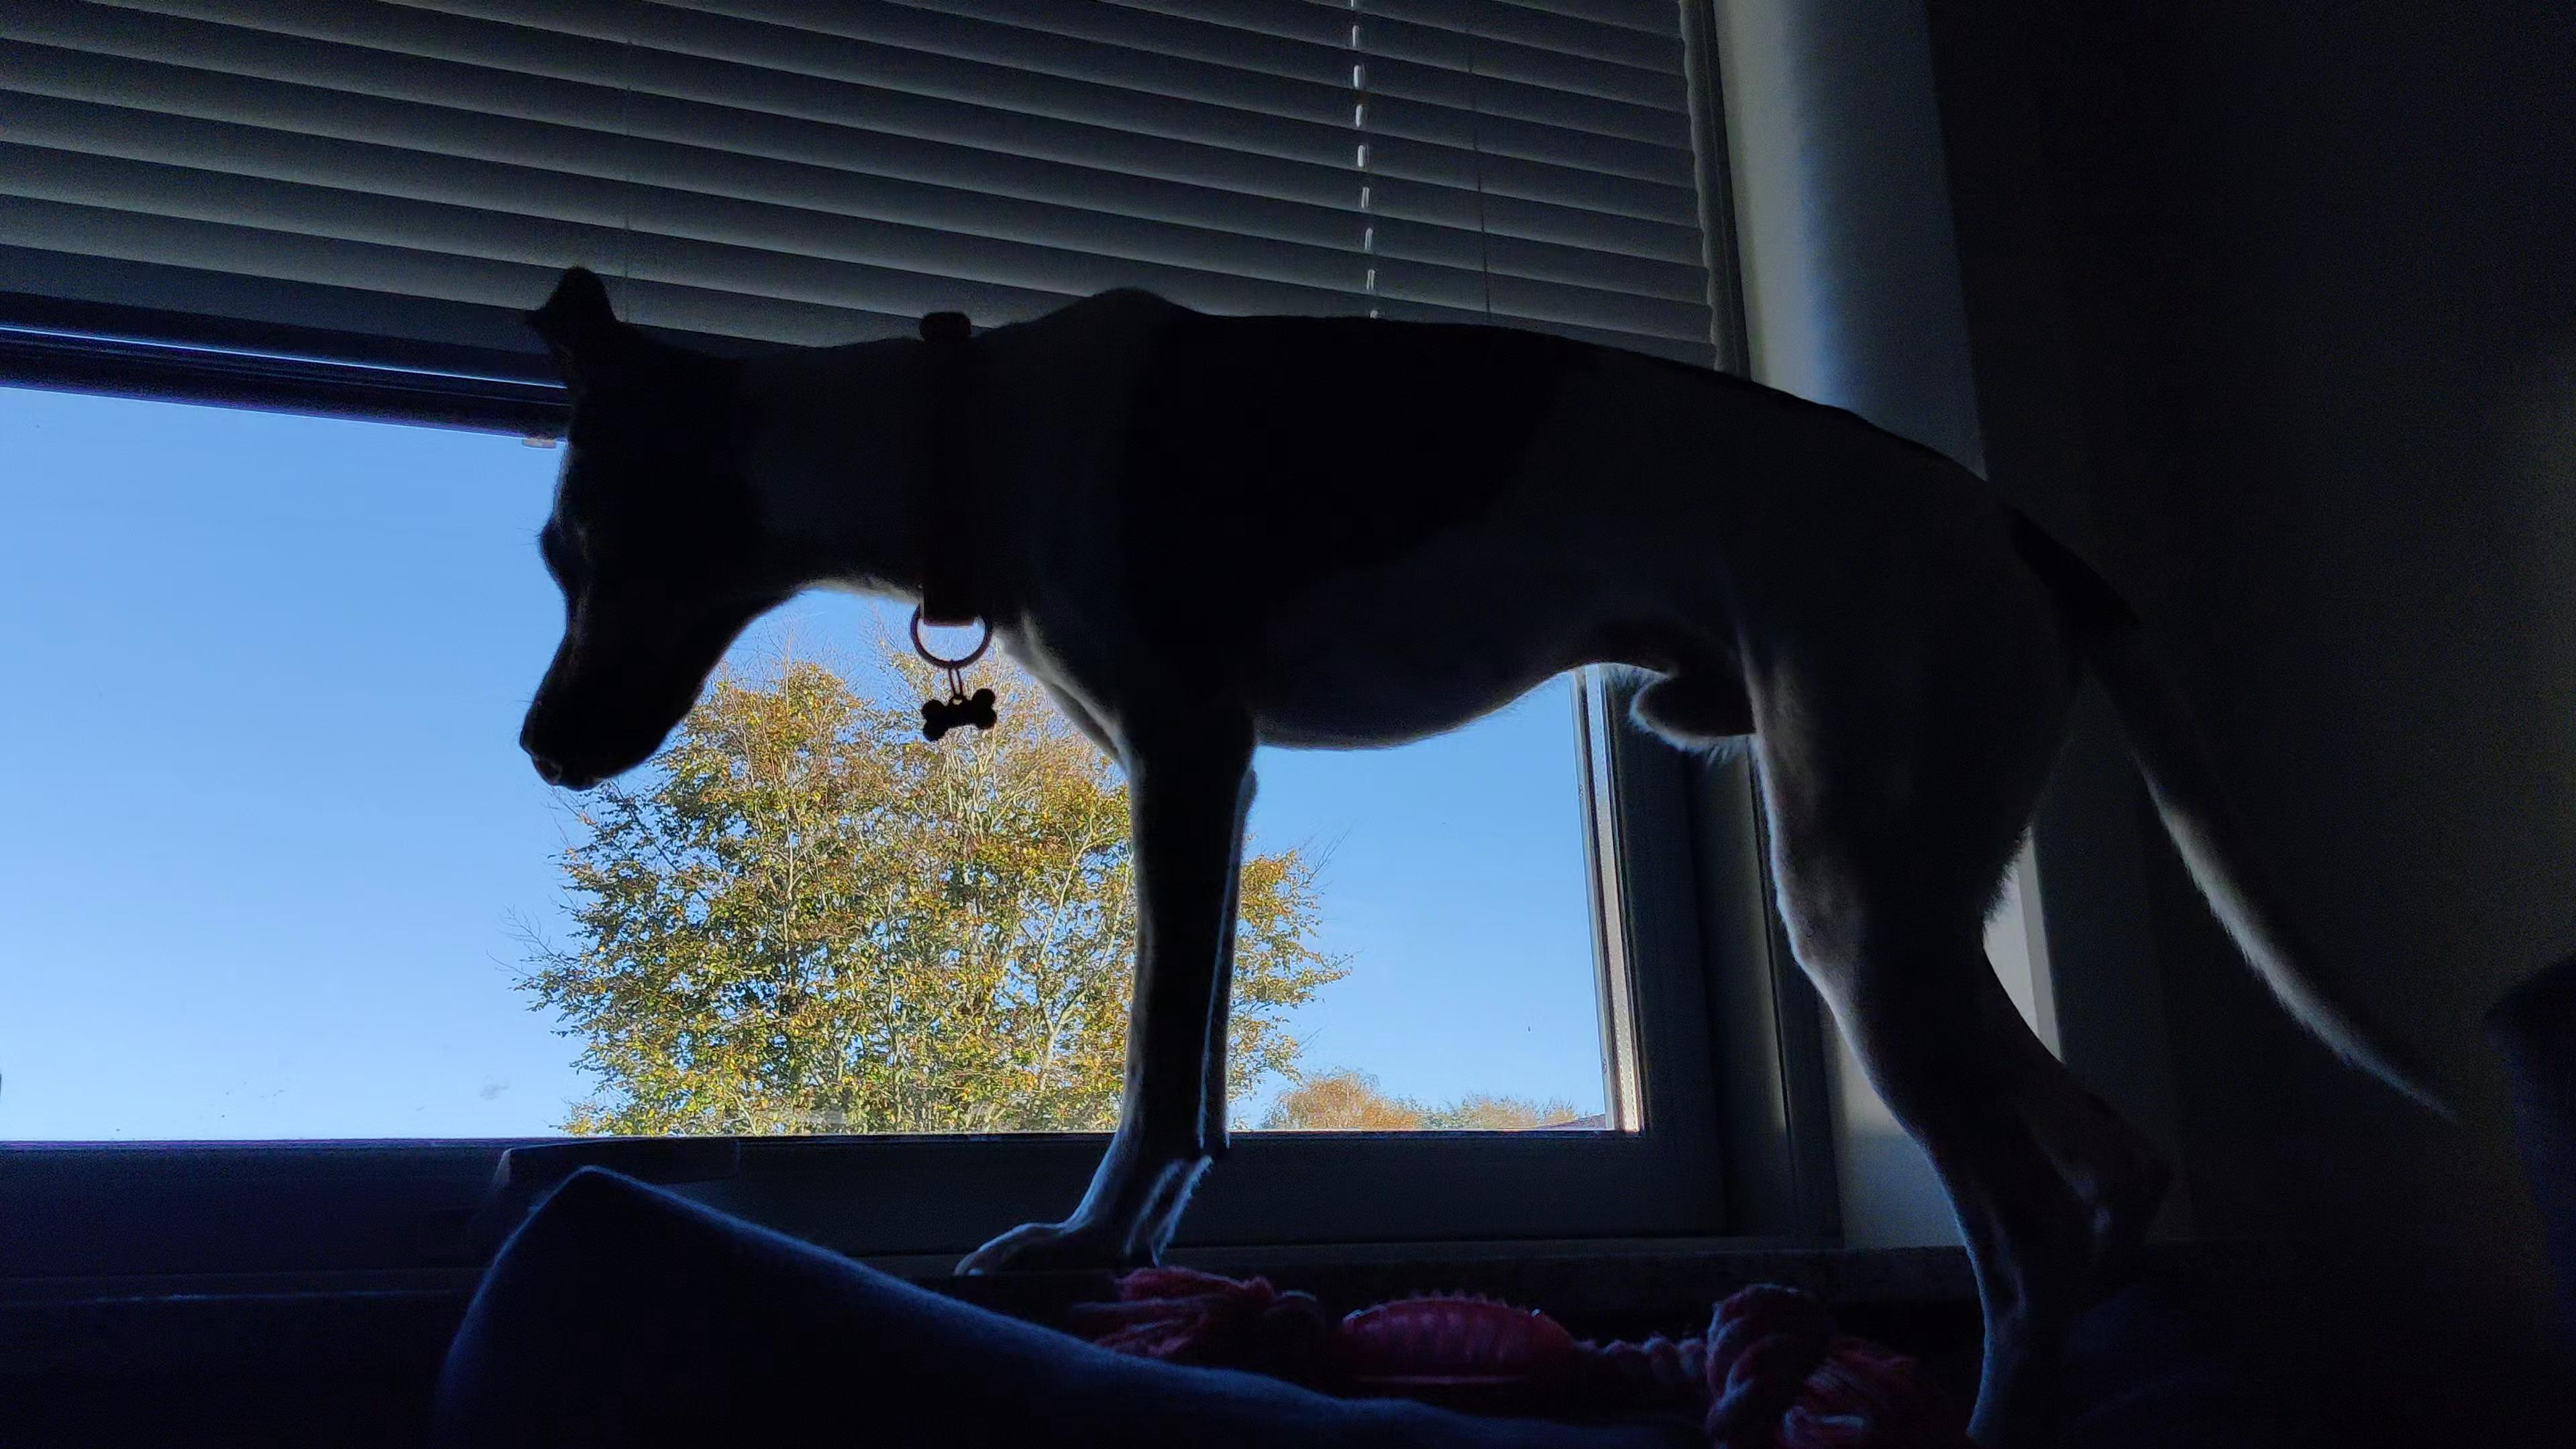Dog: (513, 260, 2472, 1449)
